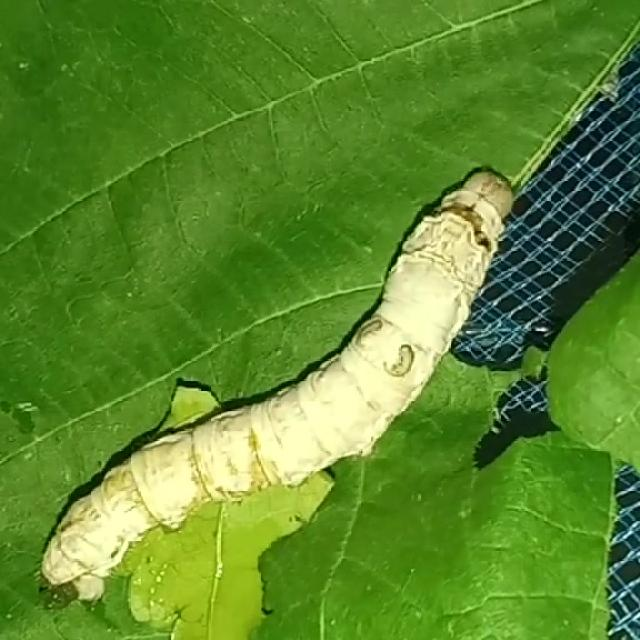Grasserie: (37, 135, 520, 615)
